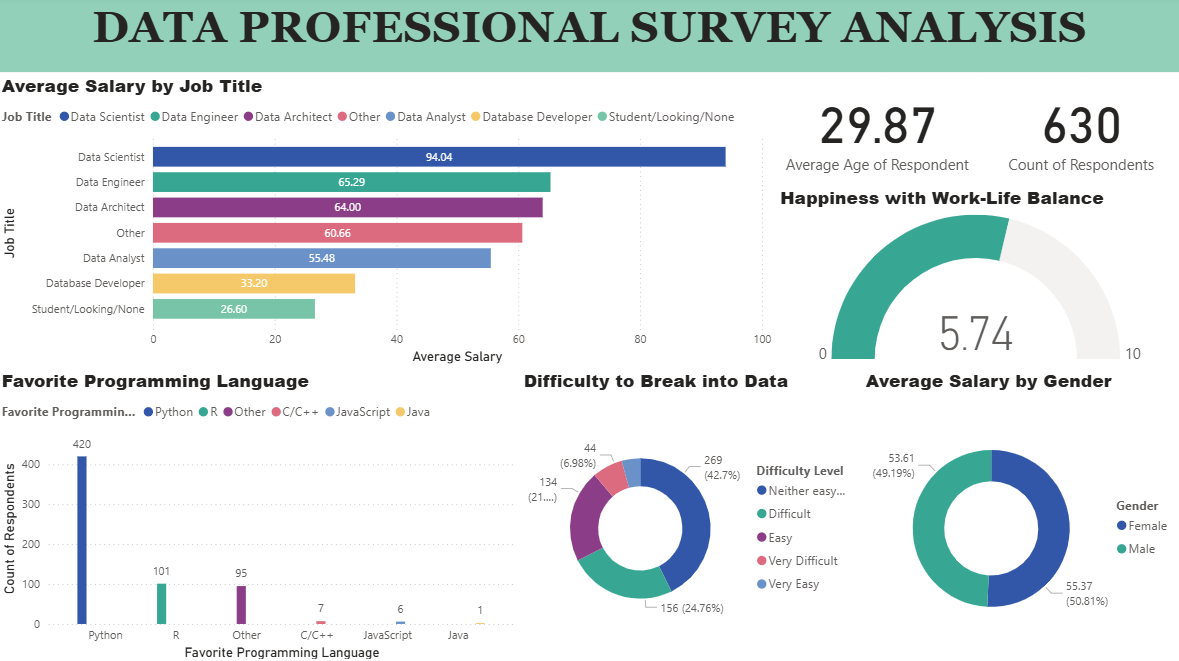

What the dashboard file says about the page in this screenshot:
{"tool":"powerbi","page":{"name":"Dashboard","canvas":[1280,720],"ordinal":0},"visuals":[{"type":"textbox","box":[0,0,1279.2,82.6],"z":0},{"type":"card","fields":{"Values":["CountNonNull(Data Professional Survey.Unique ID)"]},"box":[1060.2,83.2,219.2,120.9],"z":1000},{"type":"card","fields":{"Values":["Avg(Data Professional Survey.Q10 - Current Age)"]},"box":[841,83.2,219.2,120.9],"z":2000},{"type":"barChart","title":"Average Salary by Job Title","fields":{"Category":["Data Professional Survey.Q1 - Which Title Best Fits your Current Role?.1"],"Y":["Avg(Data Professional Survey.Average Salary)"],"Series":["Data Professional Survey.Q1 - Which Title Best Fits your Current Role?.1"]},"box":[0,82.6,840.4,319],"z":3000},{"type":"clusteredColumnChart","title":"Favorite Programming Language","fields":{"Category":["Data Professional Survey.Q5 - Favorite Programming Language.1"],"Y":["CountNonNull(Data Professional Survey.Unique ID)"],"Series":["Data Professional Survey.Q5 - Favorite Programming Language.1"]},"box":[0,401.6,563.5,319],"z":4000},{"type":"gauge","title":"Happiness with Work-Life Balance","fields":{"Y":["Avg(Data Professional Survey.Q6 - How Happy are you in your Current Position with the following? (Work/Life Balance))"],"MinValue":["Min(Data Professional Survey.Q6 - How Happy are you in your Current Position with the following? (Work/Life Balance))"],"MaxValue":["Max(Data Professional Survey.Q6 - How Happy are you in your Current Position with the following? (Work/Life Balance))"]},"box":[840.4,204,440.4,197.5],"z":5000},{"type":"donutChart","title":"Average Salary by Gender","fields":{"Y":["Avg(Data Professional Survey.Average Salary)"],"Category":["Data Professional Survey.Q9 - Male/Female?"]},"box":[932.7,401.6,346.5,319],"z":6000},{"type":"donutChart","title":"Difficulty to Break into Data","fields":{"Y":["CountNonNull(Data Professional Survey.Unique ID)"],"Category":["Data Professional Survey.Q7 - How difficult was it for you to break into Data?"]},"box":[563.5,401.6,369.2,319],"z":7000}]}

Visuals, with their boxes in screenshot pixels (x1, y1, x2, y2), scaled from the page's 1280x720 canvas onto the 1179x661 screenshot:
textbox: 0/0/1178/76
card - CountNonNull(Data Professional Survey.Unique ID): 977/76/1178/187
card - Avg(Data Professional Survey.Q10 - Current Age): 775/76/977/187
"Average Salary by Job Title" barChart: 0/76/774/369
"Favorite Programming Language" clusteredColumnChart: 0/369/519/660
"Happiness with Work-Life Balance" gauge: 774/187/1178/369
"Average Salary by Gender" donutChart: 859/369/1178/660
"Difficulty to Break into Data" donutChart: 519/369/859/660
